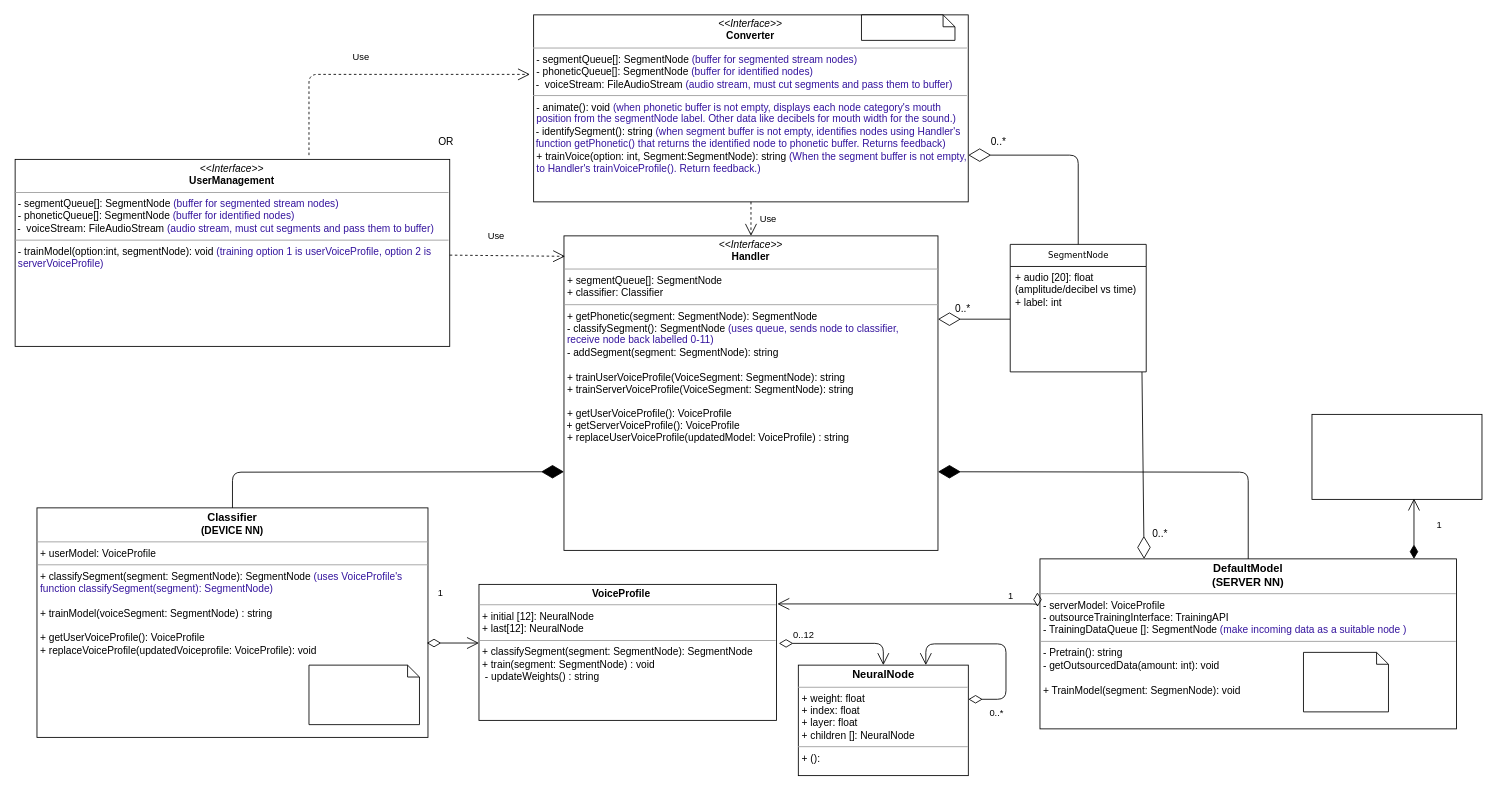
This 1497x791 diagram has some shape labels left out. Here are the shapes that lost their labels. From the top down, the centre of each, then its label:
[908,27]: INPUT . WAV file
[1396,456]: <<Interface>> TrainingAPI + OutsourceData(amount: int): void
[363,694]: V1: CMU_Sphinx V2: CNN/ AutoEncoderNN
[1345,682]: TensorFlow Keras
